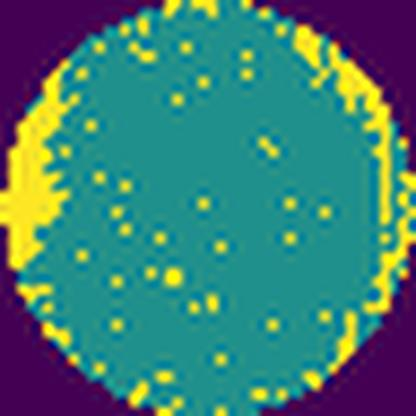Edge-Loc: (289, 16, 416, 310), (0, 49, 82, 277), (309, 309, 360, 390)
